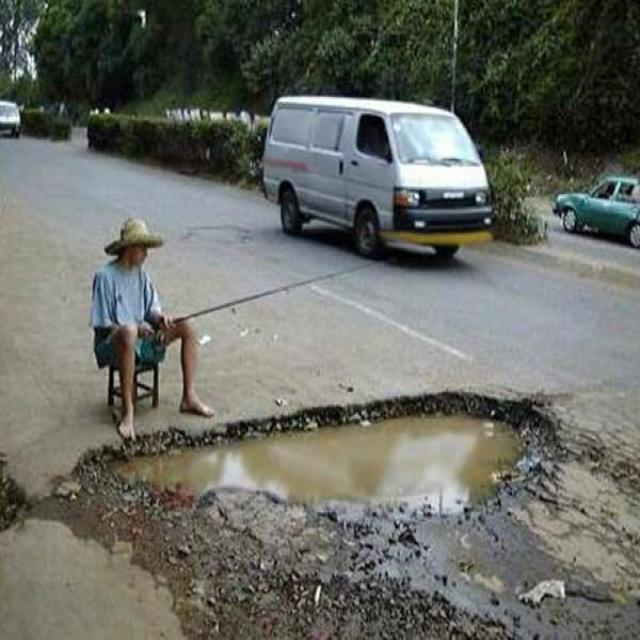Pothole: (65, 351, 628, 640)
